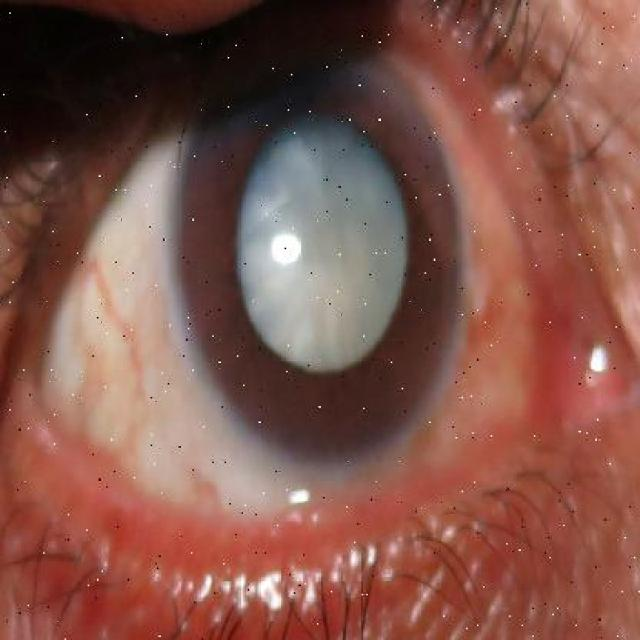Cataract: (60, 40, 575, 558)
